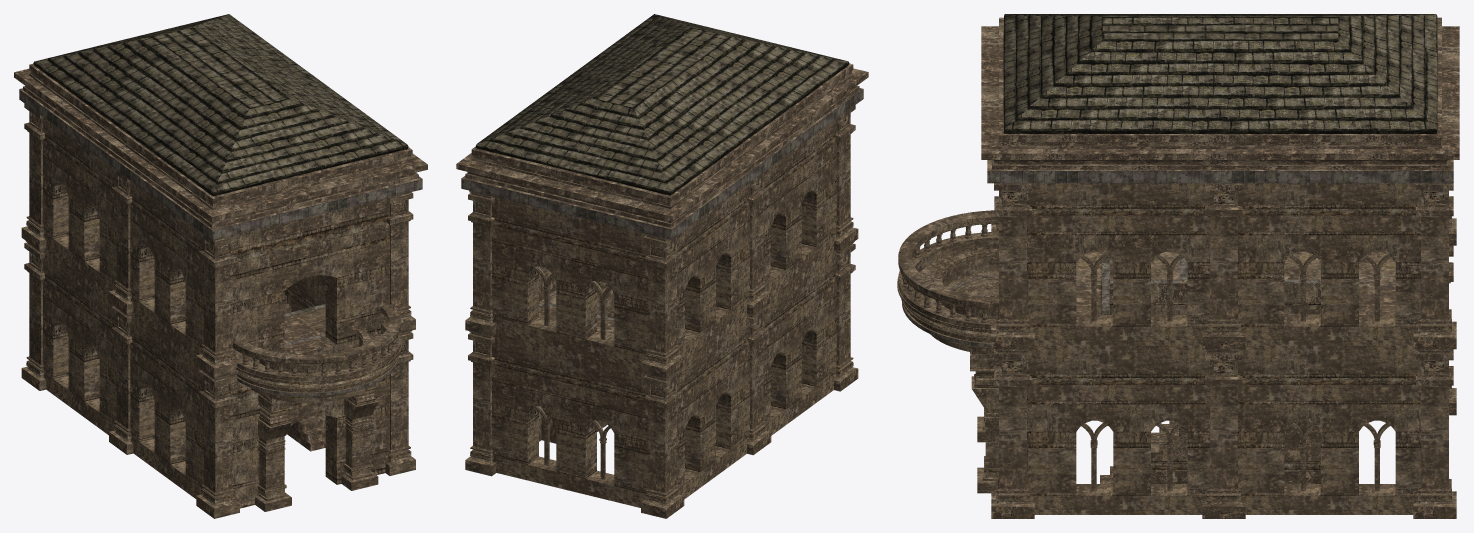
File: materials_5_building_4.fbx
3 views of the same model, side by side, from view 1: azimuth 30°, elevation 25°; view 2: azimuth 150°, elevation 25°; view 3: azimuth 270°, elevation 25° (orthographic). The views are drawn at different scales.
Visible parts, largest first — view 1: materials_5_building_4; view 2: materials_5_building_4; view 3: materials_5_building_4.
Part boxes in pixels (box(x1,y1,x2,y2)): materials_5_building_4: box(14, 14, 427, 518); materials_5_building_4: box(456, 14, 868, 518); materials_5_building_4: box(897, 14, 1459, 518).
Bounding box in the file's own units: 711 × 1122 × 1327.
